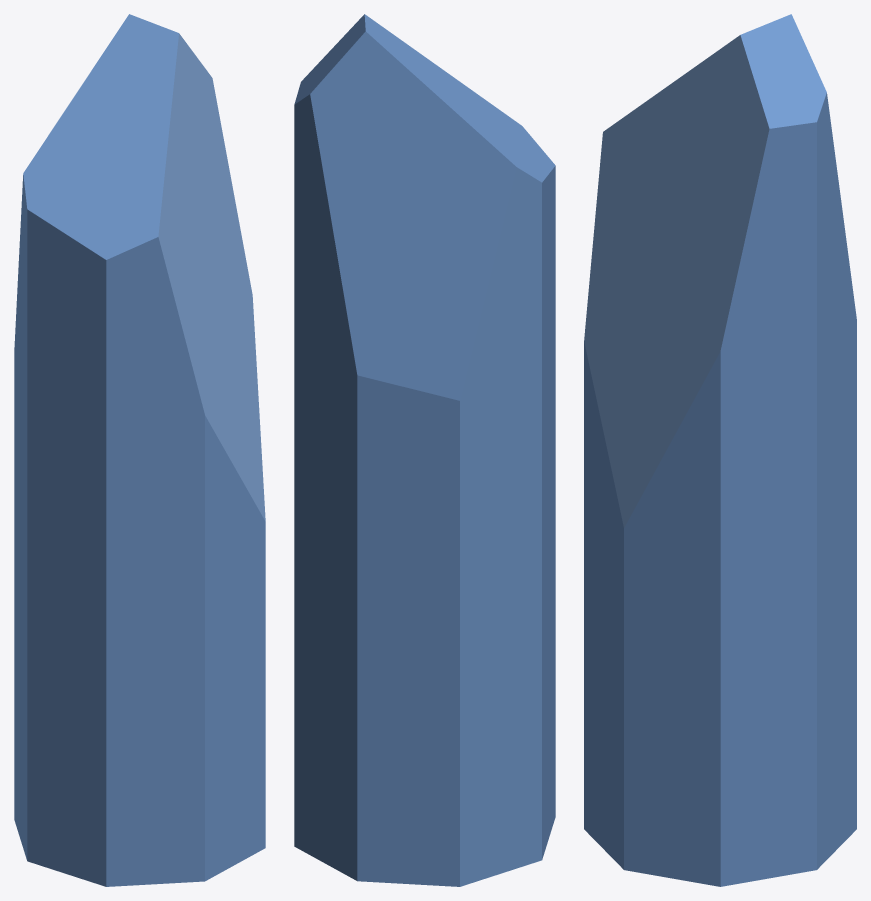
File: crystal_1.fbx
3 views of the same model, side by side, from view 1: azimuth 30°, elevation 25°; view 2: azimuth 150°, elevation 25°; view 3: azimuth 270°, elevation 25° (orthographic). The views are drawn at different scales.
Visible parts, largest first — view 1: crystal_1; view 2: crystal_1; view 3: crystal_1.
Part boxes in pixels (left/top/right/bottom): crystal_1: left=14, top=14, right=265, bottom=886; crystal_1: left=294, top=14, right=555, bottom=886; crystal_1: left=584, top=14, right=856, bottom=886.
Size of the model in its own units: 26.58 by 88.92 by 26.58.
